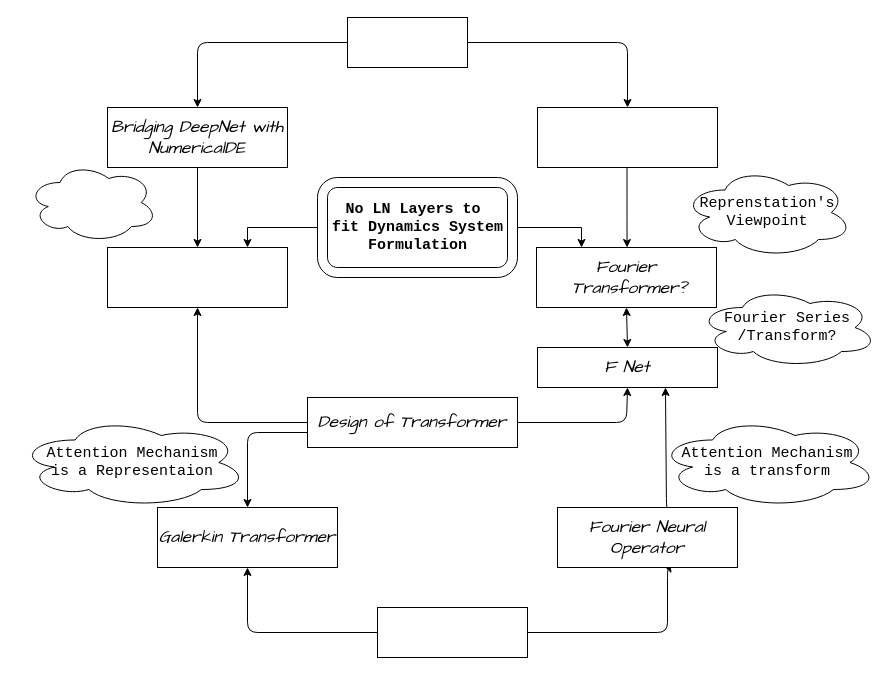
This 895x675 diagram has some shape labels left out. The box of each missing label's shape, as (x1, y1, x2, y2) in pixels:
Dissecting Neural ODE: (536, 106, 718, 168)
Macaron Net: (106, 246, 288, 308)
Neural ODE: (346, 16, 468, 68)
Neural PDE: (376, 606, 528, 658)
Solver's Viewpoint: (26, 162, 158, 242)
